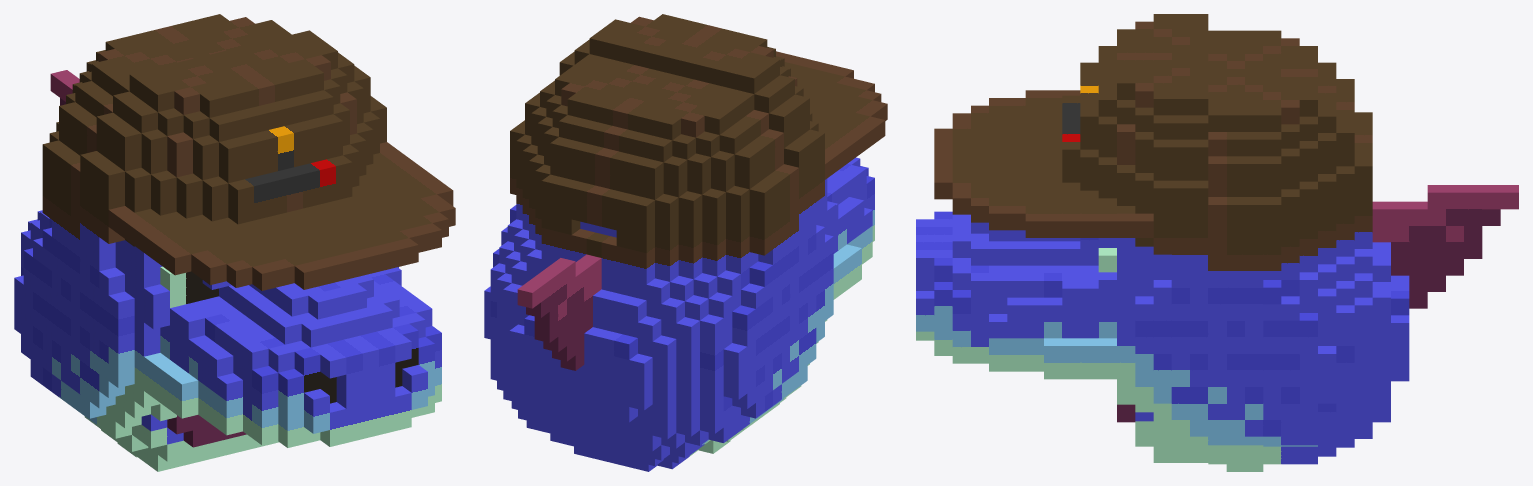
The model's file is wsb hat_cool dude glasses.gltf.
3 renders of one model, left to right at view 1: azimuth 30°, elevation 25°; view 2: azimuth 150°, elevation 25°; view 3: azimuth 270°, elevation 25°, orthographic. The views are drawn at different scales.
Parts seen in each view (by area): view 1: C60_H_WSB_CoolDude_3DG_RBShade-Mesh; view 2: C60_H_WSB_CoolDude_3DG_RBShade-Mesh; view 3: C60_H_WSB_CoolDude_3DG_RBShade-Mesh.
Part boxes in pixels (<box>): C60_H_WSB_CoolDude_3DG_RBShade-Mesh: <box>14,14,455,471</box>; C60_H_WSB_CoolDude_3DG_RBShade-Mesh: <box>484,14,887,471</box>; C60_H_WSB_CoolDude_3DG_RBShade-Mesh: <box>916,14,1518,471</box>.
Size of the model in its own units: 17 by 23 by 33.
Materials: 1 (1 with a texture image).
